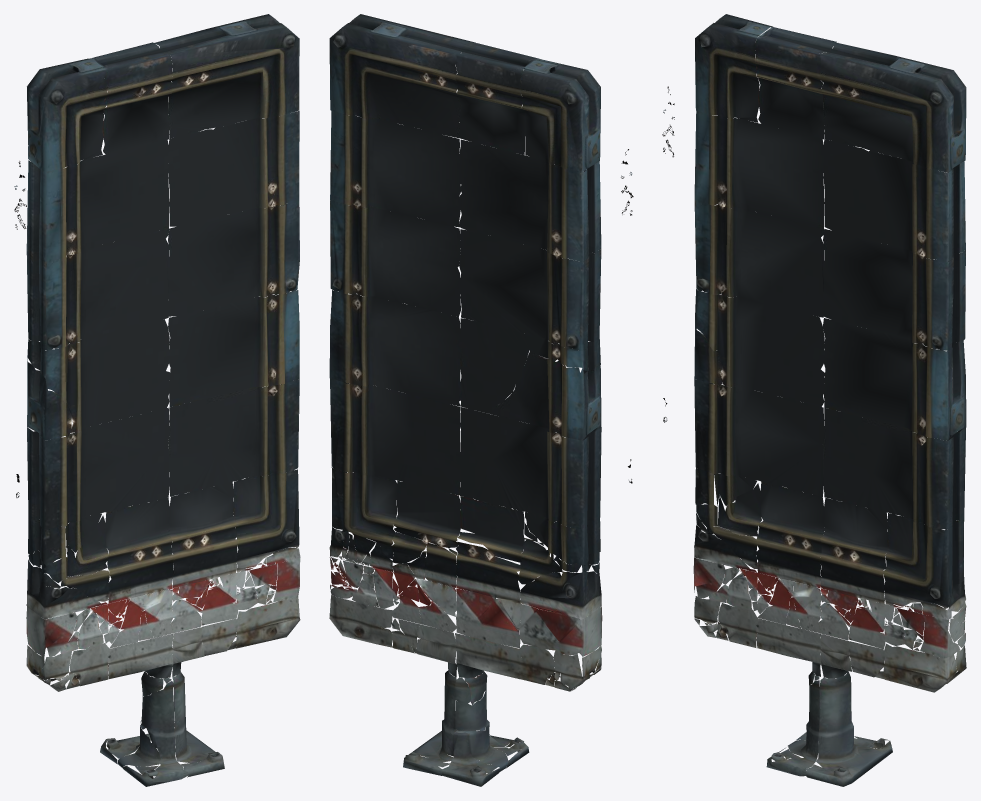
File: blast_door.glb
3 renders of one model, left to right at view 1: azimuth 30°, elevation 25°; view 2: azimuth 150°, elevation 25°; view 3: azimuth 330°, elevation 25°, orthographic.
Visible parts, largest first — view 1: Mesh; view 2: Mesh; view 3: Mesh.
Part boxes in pixels (x1,y1,x2,y2): Mesh: [14, 14, 300, 786]; Mesh: [329, 14, 633, 786]; Mesh: [662, 14, 966, 786].
Bounding box in the file's own units: 1.94 × 4.6 × 0.5734.
Materials: 1 (1 with a texture image).
